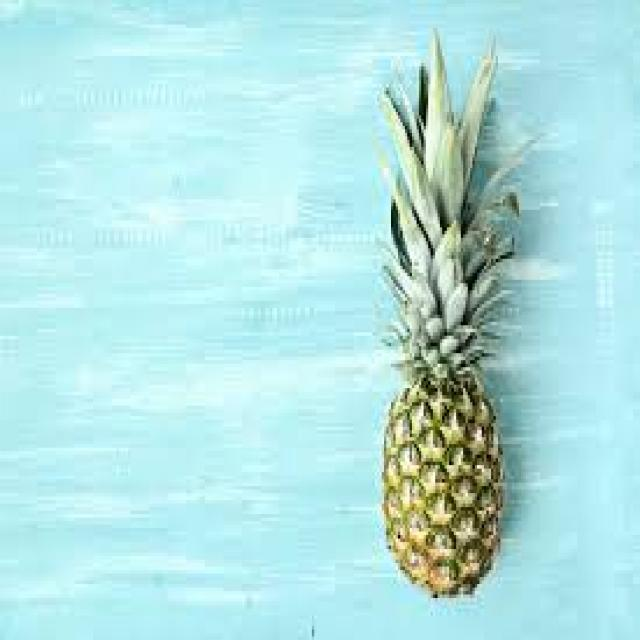pineapple: (380, 49, 508, 601)
